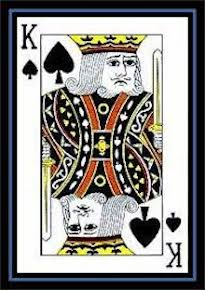KingOfSpades: (6, 9, 196, 279)
